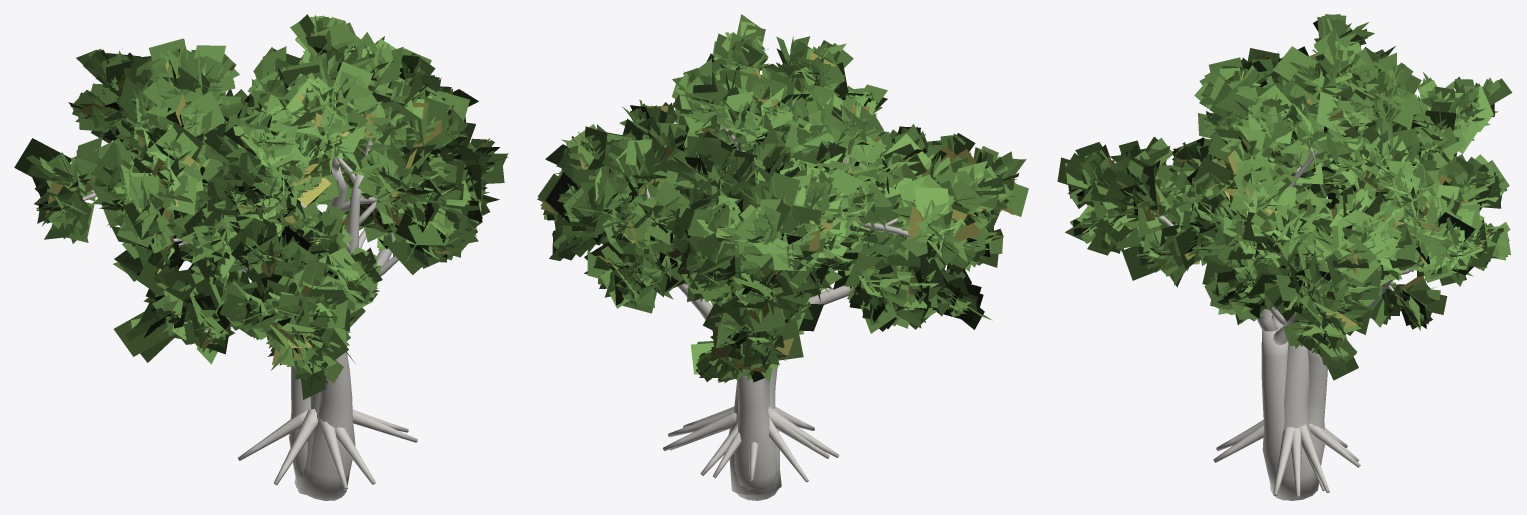
The model's file is pisonia.glb.
3 views of the same model, side by side, from view 1: azimuth 30°, elevation 25°; view 2: azimuth 150°, elevation 25°; view 3: azimuth 270°, elevation 25° (orthographic). The views are drawn at different scales.
Visible parts, largest first — view 1: Pis1Leaves, Pis2Leaves, Pis1Leaves_lod, Pis2Leaves_lod, Pis1Bark, Pis0Leaves, Pis0Leaves_lod, Pis2Bark, Pis0Bark; view 2: Pis2Leaves, Pis2Leaves_lod, Pis0Leaves, Pis1Leaves_lod, Pis1Leaves, Pis0Leaves_lod, Pis0Bark, Pis1Bark, Pis2Bark; view 3: Pis1Leaves, Pis1Leaves_lod, Pis2Leaves, Pis2Leaves_lod, Pis0Leaves, Pis0Leaves_lod, Pis1Bark, Pis2Bark, Pis0Bark.
Boxes of the visible parts, left/top/right/bottom form: Pis1Leaves: left=122, top=36, right=508, bottom=389; Pis2Leaves: left=27, top=14, right=464, bottom=253; Pis1Leaves_lod: left=112, top=32, right=508, bottom=399; Pis2Leaves_lod: left=14, top=21, right=471, bottom=250; Pis1Bark: left=165, top=117, right=413, bottom=500; Pis0Leaves: left=125, top=47, right=366, bottom=299; Pis0Leaves_lod: left=126, top=46, right=365, bottom=304; Pis2Bark: left=59, top=88, right=417, bottom=498; Pis0Bark: left=210, top=164, right=310, bottom=494; Pis2Leaves: left=665, top=39, right=1003, bottom=359; Pis2Leaves_lod: left=654, top=36, right=1005, bottom=372; Pis0Leaves: left=552, top=101, right=901, bottom=382; Pis1Leaves_lod: left=541, top=14, right=1028, bottom=333; Pis1Leaves: left=537, top=21, right=1019, bottom=331; Pis0Leaves_lod: left=537, top=104, right=873, bottom=382; Pis0Bark: left=597, top=188, right=808, bottom=500; Pis1Bark: left=663, top=130, right=914, bottom=467; Pis2Bark: left=683, top=126, right=963, bottom=494; Pis1Leaves: left=1065, top=85, right=1412, bottom=370; Pis1Leaves_lod: left=1057, top=78, right=1416, bottom=380; Pis2Leaves: left=1172, top=14, right=1504, bottom=267; Pis2Leaves_lod: left=1162, top=17, right=1512, bottom=269; Pis0Leaves: left=1190, top=91, right=1509, bottom=329; Pis0Leaves_lod: left=1208, top=86, right=1510, bottom=330; Pis1Bark: left=1154, top=156, right=1351, bottom=500; Pis2Bark: left=1213, top=74, right=1343, bottom=500; Pis0Bark: left=1301, top=188, right=1413, bottom=491.
Size of what is drawn, in the model's own units: 13.44 by 12.49 by 12.15.
